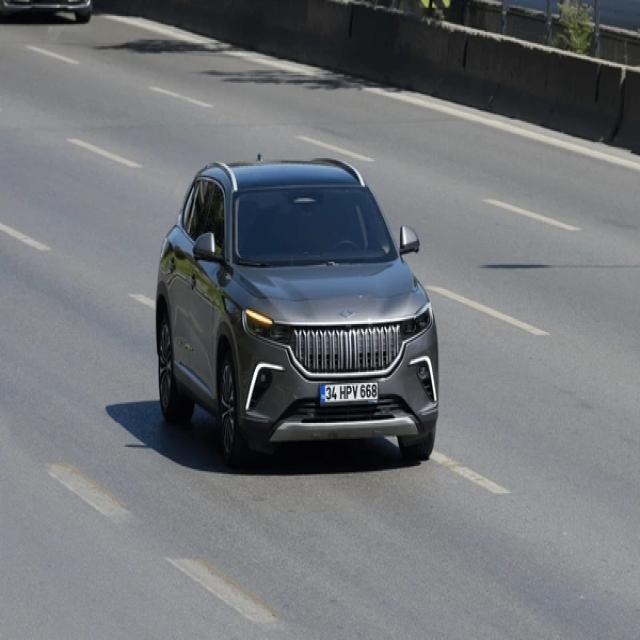togg: (338, 304, 357, 323)
